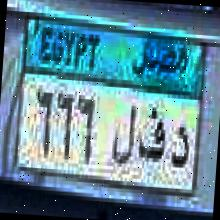6: (72, 90, 102, 166), (30, 86, 55, 160), (53, 90, 76, 164)
daal: (167, 130, 194, 172)
faa: (138, 104, 168, 168)
laam: (106, 101, 140, 172)
